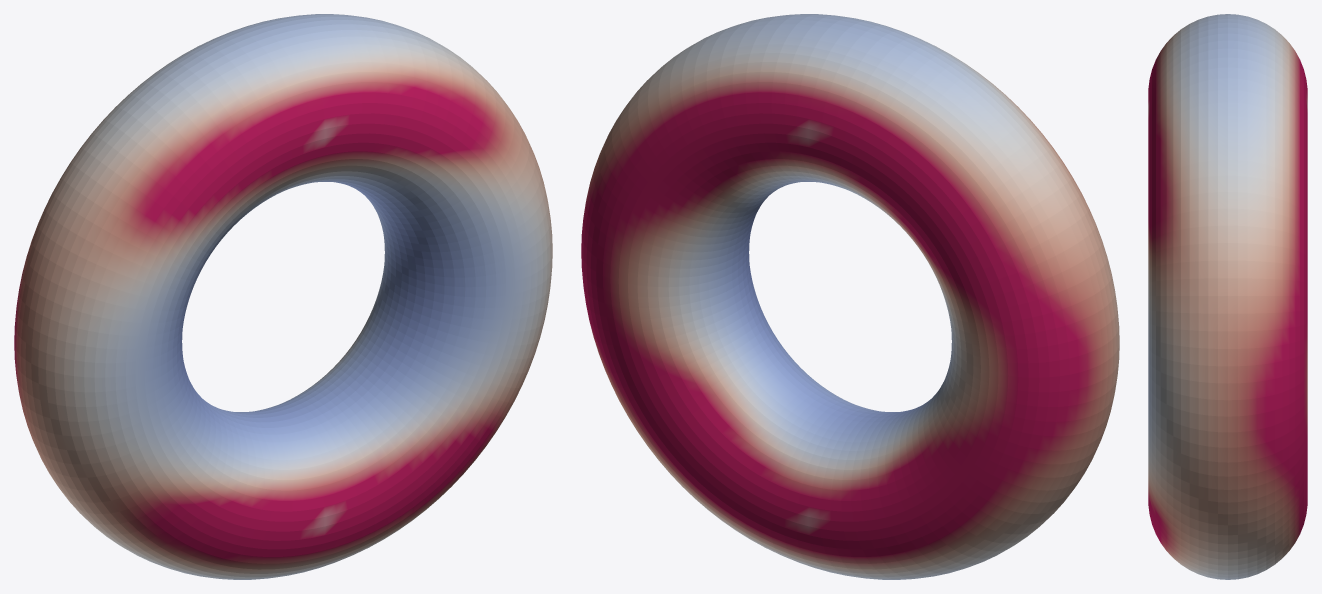
3 renders of one model, left to right at view 1: azimuth 30°, elevation 25°; view 2: azimuth 150°, elevation 25°; view 3: azimuth 270°, elevation 25°, orthographic. The views are drawn at different scales.
Parts seen in each view (by area): view 1: world; view 2: world; view 3: world.
Part boxes in pixels (x1,y1,x2,y2): world: (14, 14, 552, 579); world: (581, 14, 1119, 579); world: (1148, 14, 1307, 579).
Bounding box in the file's own units: 24.13 × 24.13 × 6.79.
